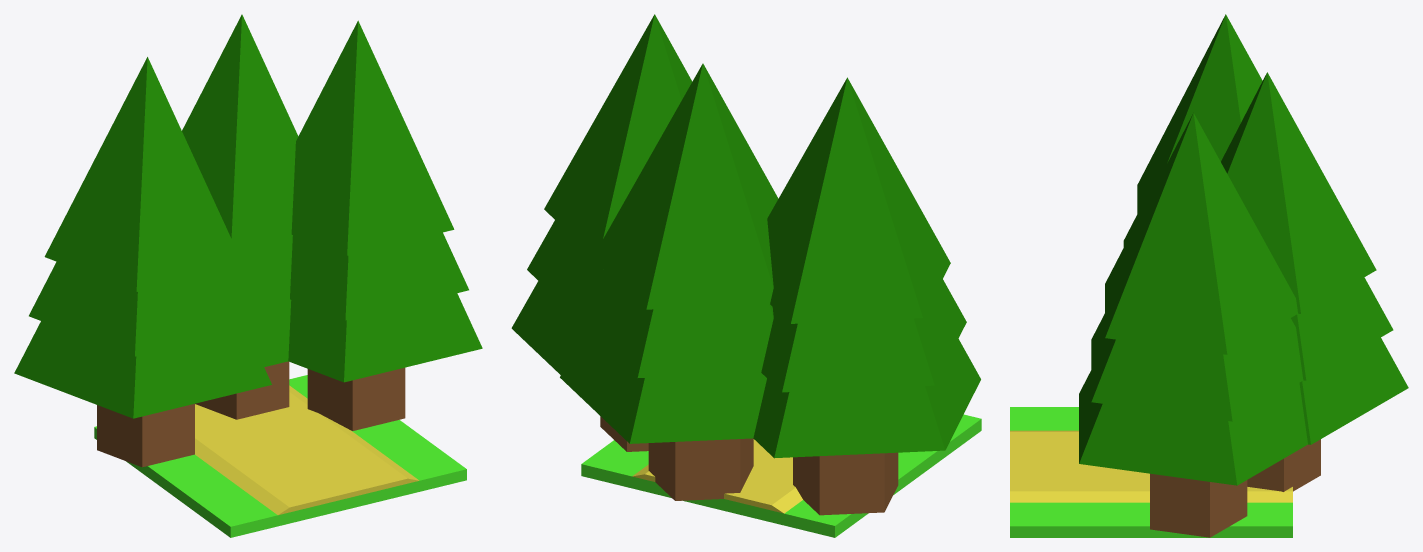
File: world16.fbx
3 renders of one model, left to right at view 1: azimuth 30°, elevation 25°; view 2: azimuth 150°, elevation 25°; view 3: azimuth 270°, elevation 25°, orthographic. The views are drawn at different scales.
Parts seen in each view (by area): view 1: Cylinder.015, Cylinder.017, Cylinder.014, Cube.137, Cube.136; view 2: Cylinder.015, Cylinder.014, Cylinder.017, Cube.136, Cube.137; view 3: Cylinder.017, Cylinder.014, Cube.136, Cube.137, Cylinder.015.
Boxes of the visible parts, bbox=[...] form: Cylinder.015: bbox=[14, 57, 271, 467]; Cylinder.017: bbox=[288, 20, 482, 430]; Cylinder.014: bbox=[182, 14, 298, 419]; Cube.137: bbox=[195, 385, 419, 515]; Cube.136: bbox=[94, 375, 466, 537]; Cylinder.015: bbox=[753, 77, 980, 515]; Cylinder.014: bbox=[560, 63, 778, 500]; Cylinder.017: bbox=[511, 14, 692, 451]; Cube.136: bbox=[581, 414, 981, 537]; Cube.137: bbox=[632, 439, 802, 513]; Cylinder.017: bbox=[1079, 113, 1307, 537]; Cylinder.014: bbox=[1221, 72, 1408, 491]; Cube.136: bbox=[1010, 407, 1292, 537]; Cube.137: bbox=[1010, 430, 1292, 502]; Cylinder.015: bbox=[1123, 14, 1262, 247].
Size of the model in its own units: 711 by 647 by 564.
